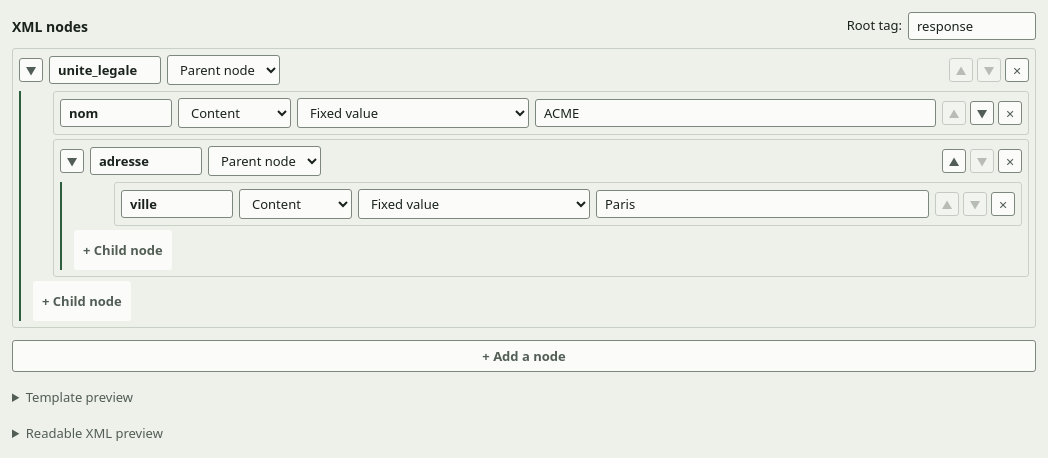
XmlResponseBuilder — pliage/depliage des noeuds parents › depliage restaure le contenu masque, aucune donnee perdue
Click the button named "Collapse unite_legale": (31, 70) [19,58,43,82]
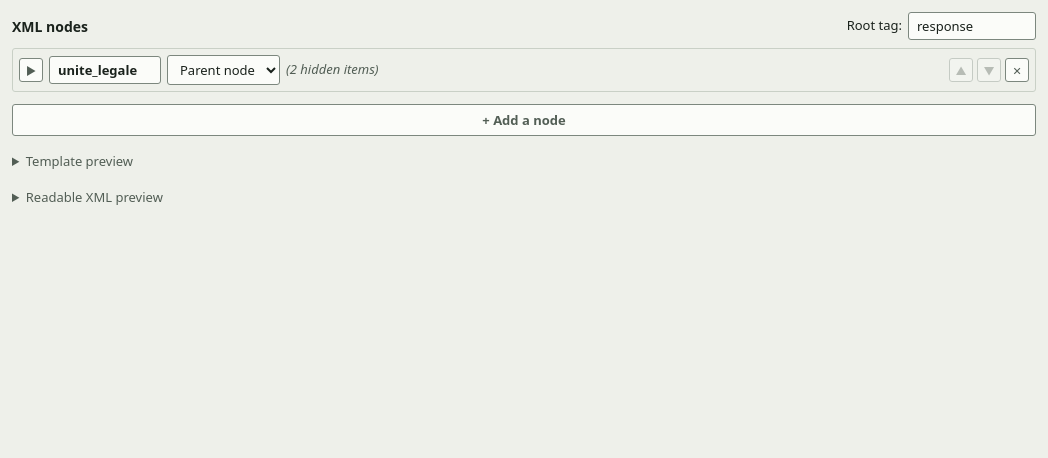
Click the button named "Expand unite_legale": (31, 70) [19,58,43,82]
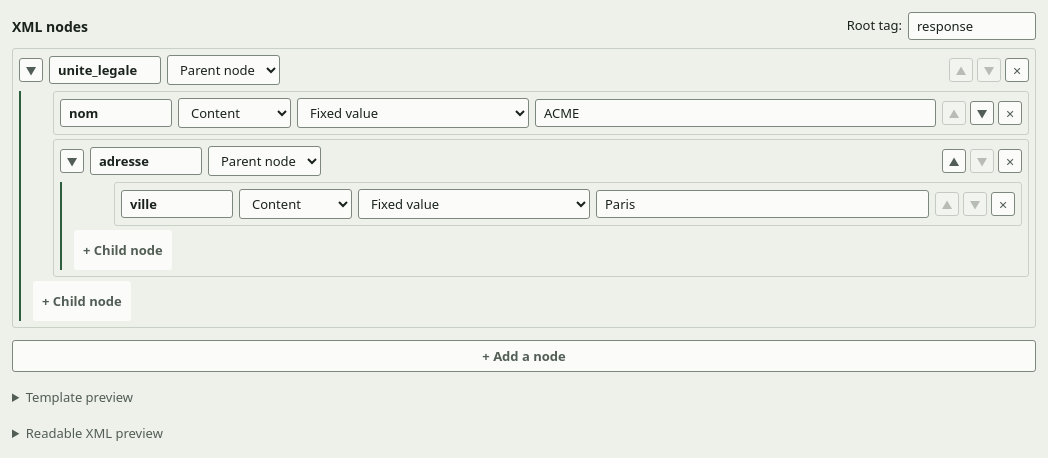
Check: the button named "Collapse unite_legale" is expanded, box [19,58,43,82]
Check: the 2nd field showing "nom" is shown, box [60,99,172,127]
Check: the 4th field showing "ville" is shown, box [121,190,233,218]
